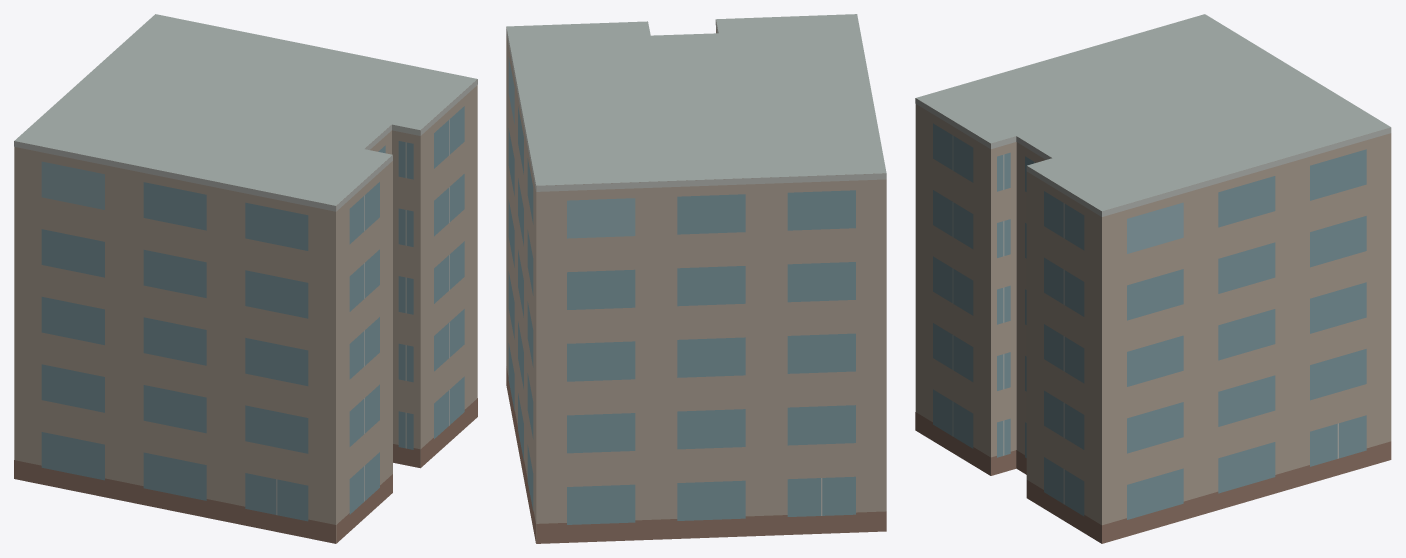
Rendered from survey-upis-33022959.glb.
3 renders of one model, left to right at view 1: azimuth 30°, elevation 25°; view 2: azimuth 150°, elevation 25°; view 3: azimuth 270°, elevation 25°, orthographic. The views are drawn at different scales.
Parts seen in each view (by area): view 1: survey-upis-33022959.tmp; view 2: survey-upis-33022959.tmp; view 3: survey-upis-33022959.tmp.
Part boxes in pixels (<box>): survey-upis-33022959.tmp: <box>14,14,477,543</box>; survey-upis-33022959.tmp: <box>506,14,886,543</box>; survey-upis-33022959.tmp: <box>915,14,1391,543</box>.
Bounding box in the file's own units: 18.03 × 14.15 × 18.36.
